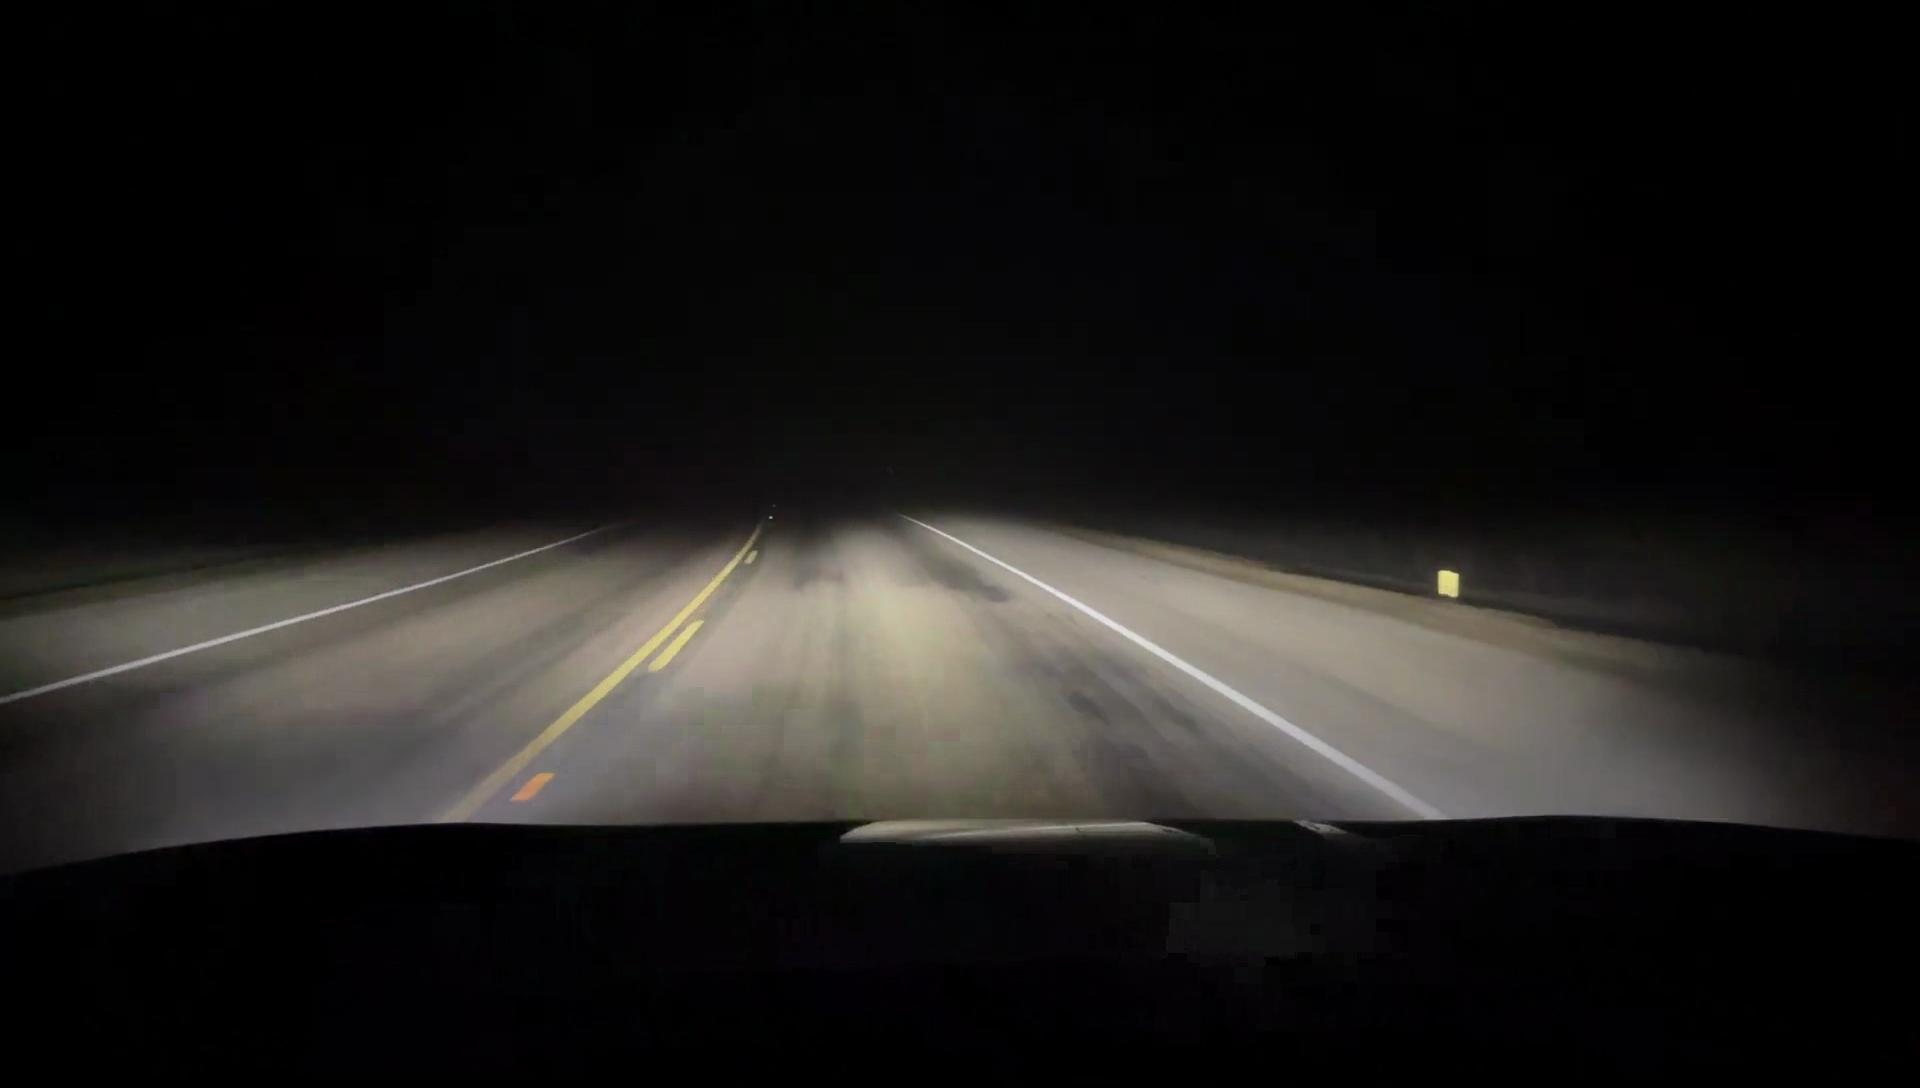road-lanes: (530, 514, 1416, 804)
